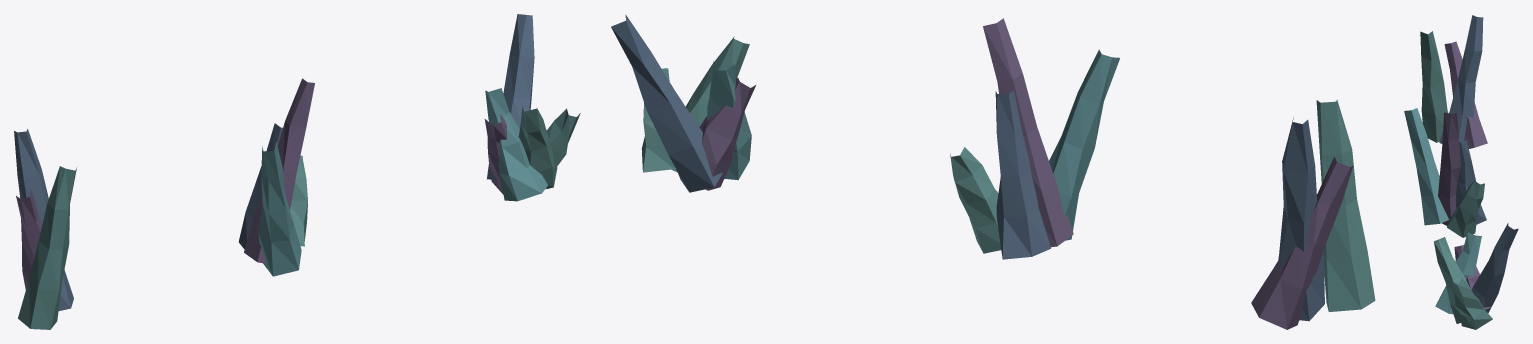
File: corals.glb
3 views of the same model, side by side, from view 1: azimuth 30°, elevation 25°; view 2: azimuth 150°, elevation 25°; view 3: azimuth 270°, elevation 25° (orthographic). The views are drawn at different scales.
Visible parts, largest first — view 1: world; view 2: world; view 3: world.
Boxes of the visible parts, x1,y1,x2,y2 form: world: (14, 14, 580, 329); world: (611, 14, 1375, 329); world: (1404, 15, 1518, 329).
Size of the model in its own units: 1.21 by 0.3587 by 0.2893.
